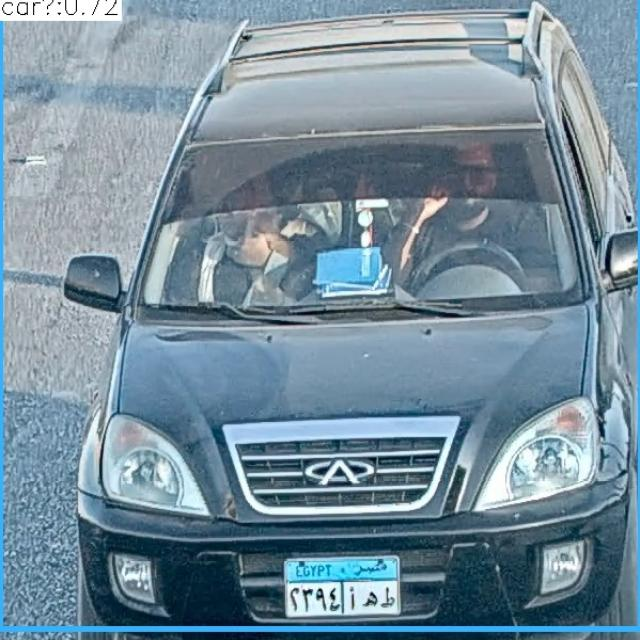windshield: (136, 137, 581, 305)
